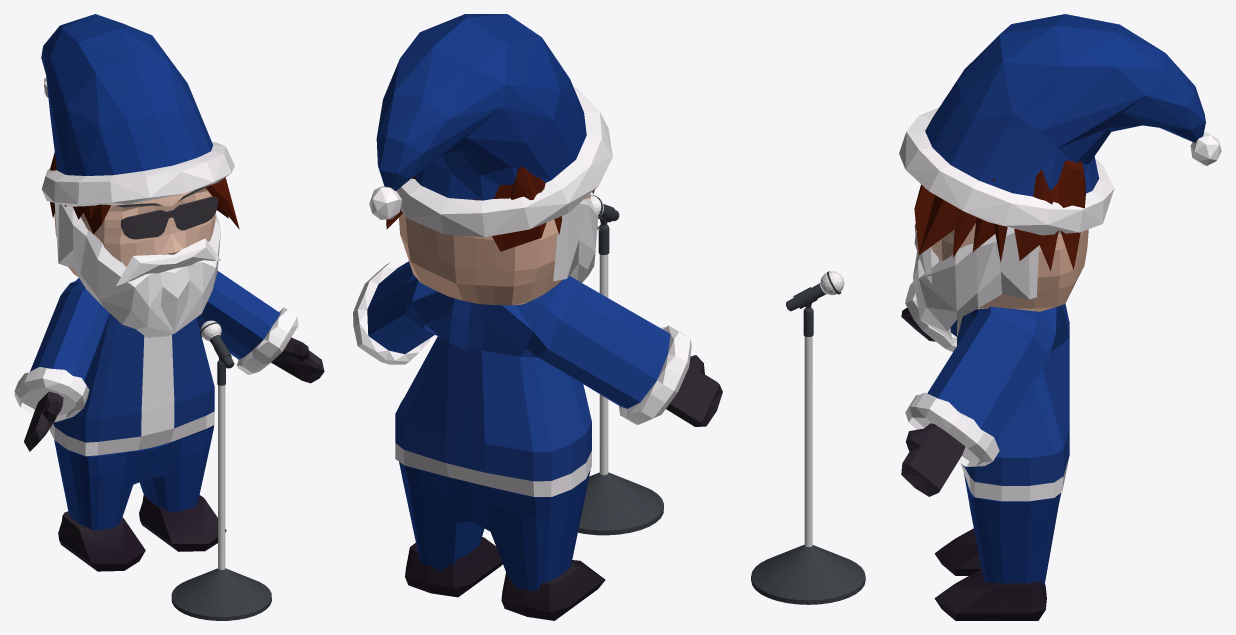
File: santa_f2.glb
The picture shows the model from 3 angles, left to right: view 1: azimuth 30°, elevation 25°; view 2: azimuth 150°, elevation 25°; view 3: azimuth 270°, elevation 25°; orthographic projection. The views are drawn at different scales.
Visible parts, largest first — view 1: hontai-f, boushi-f, hige-f, zubon-f, stand, kao-f, kutu-r-f, kutu-l-f, sunguras-f, hanahige-f, kami-f, maiku; view 2: hontai-f, boushi-f, zubon-f, kao-f, stand, kutu-r-f, kutu-l-f, hige-f, kami-f; view 3: boushi-f, hontai-f, hige-f, stand, zubon-f, kami-f, kutu-l-f, kao-f, kutu-r-f, maiku.
Boxes of the visible parts, x1,y1,x2,y2 form: hontai-f: (14, 271, 324, 456); boushi-f: (41, 14, 234, 206); hige-f: (54, 203, 220, 337); zubon-f: (54, 425, 214, 530); stand: (171, 360, 271, 620); kao-f: (54, 187, 215, 277); kutu-r-f: (58, 511, 145, 571); kutu-l-f: (139, 494, 226, 551); sunguras-f: (121, 196, 217, 239); hanahige-f: (116, 238, 220, 286); kami-f: (49, 152, 239, 234); maiku: (200, 320, 234, 368); hontai-f: (353, 261, 722, 496); boushi-f: (369, 14, 612, 237); zubon-f: (399, 462, 590, 590); kao-f: (399, 194, 590, 305); stand: (578, 224, 663, 535); kutu-r-f: (501, 560, 605, 620); kutu-l-f: (405, 537, 502, 597); hige-f: (553, 198, 598, 282); kami-f: (386, 166, 594, 251); boushi-f: (899, 14, 1221, 235); hontai-f: (901, 281, 1069, 501); hige-f: (913, 227, 1038, 339); stand: (751, 307, 865, 604); zubon-f: (964, 474, 1061, 586); kami-f: (914, 160, 1085, 271); kutu-l-f: (934, 569, 1046, 620); kao-f: (931, 223, 1088, 311); kutu-r-f: (934, 528, 981, 575); maiku: (786, 271, 844, 311).
Size of the model in its own units: 5.41 by 8.95 by 6.77.
17 materials, 16 textured.
